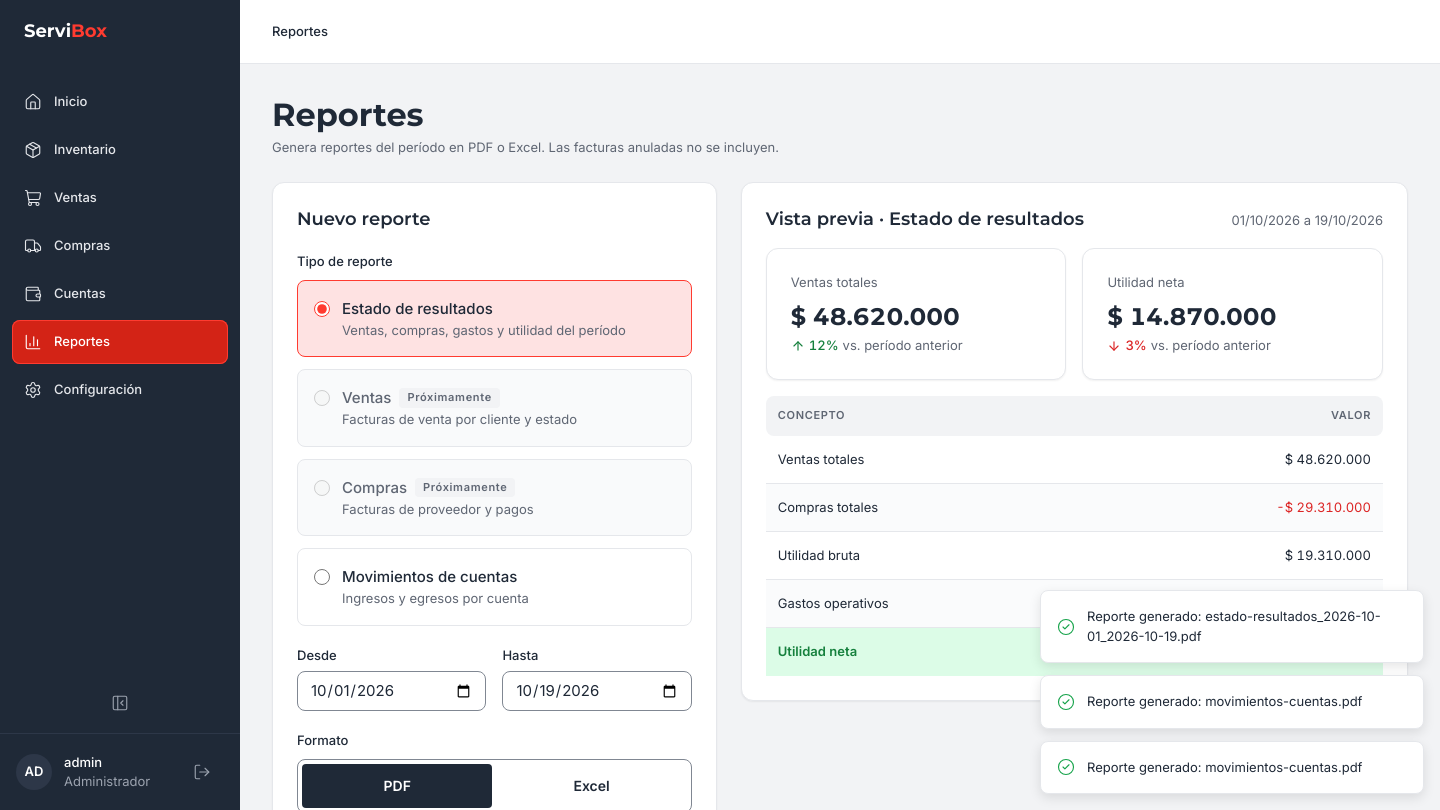
Scenario: ReportsPage › un error del backend queda en el Alert sin perder lo digitado
Click the radio button labelled "Movimientos de cuentas Ingresos y egresos por cuenta" at (322, 577), box [314,569,330,585]
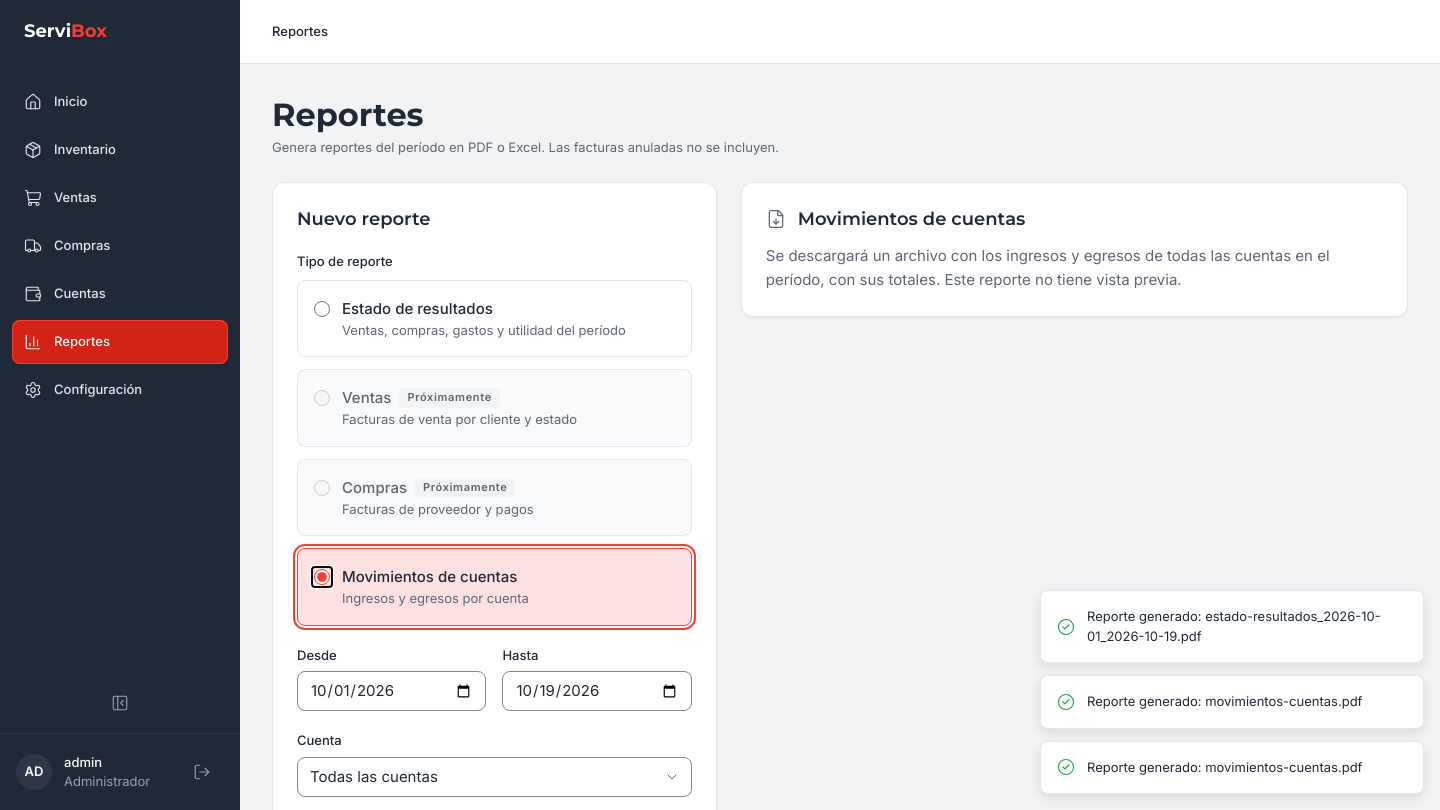
Type "2026-01-01" into the date field labelled "Desde" at (392, 691), box [297,671,486,711]
(page scrolled)
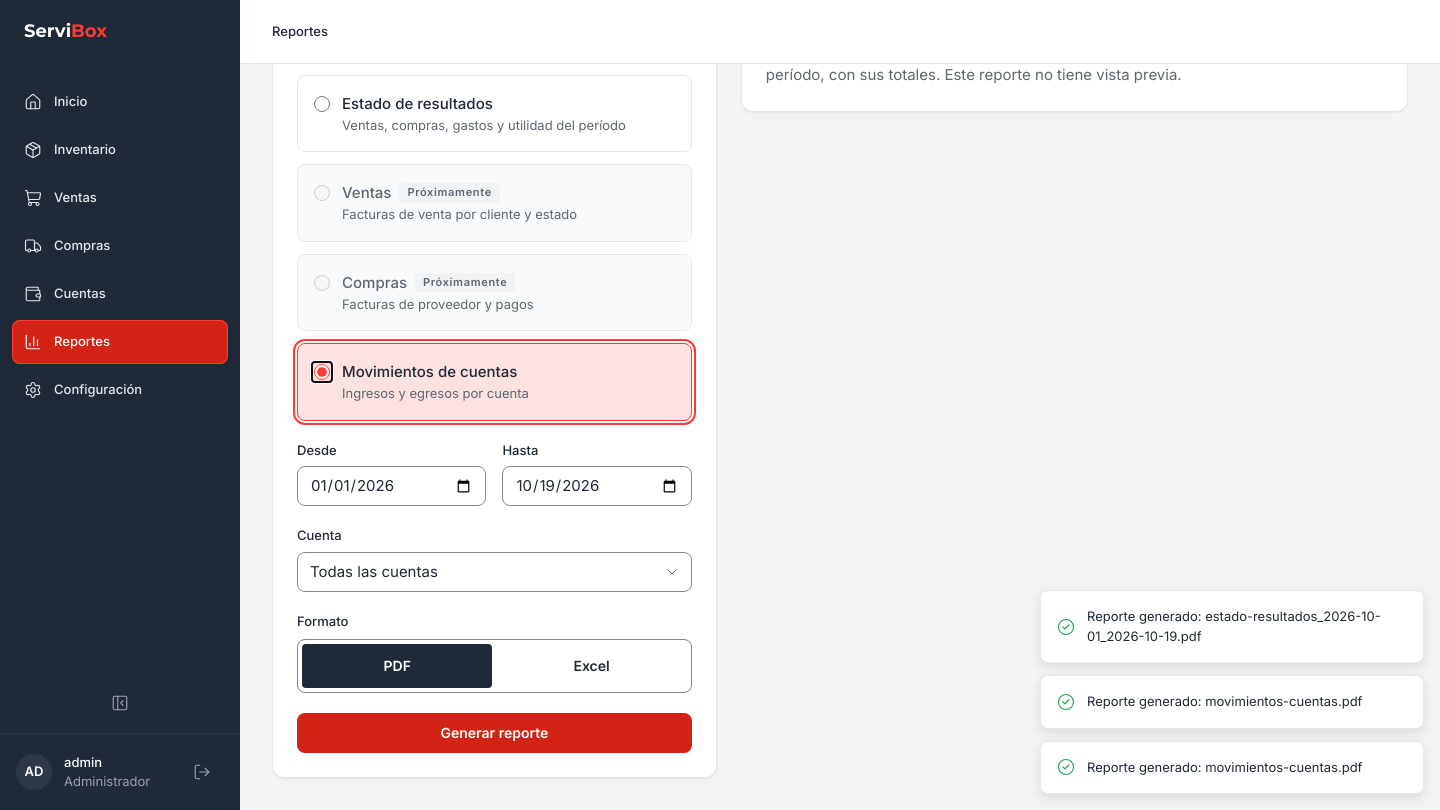
Click the button "Generar reporte" at (494, 733), box [297,713,692,753]
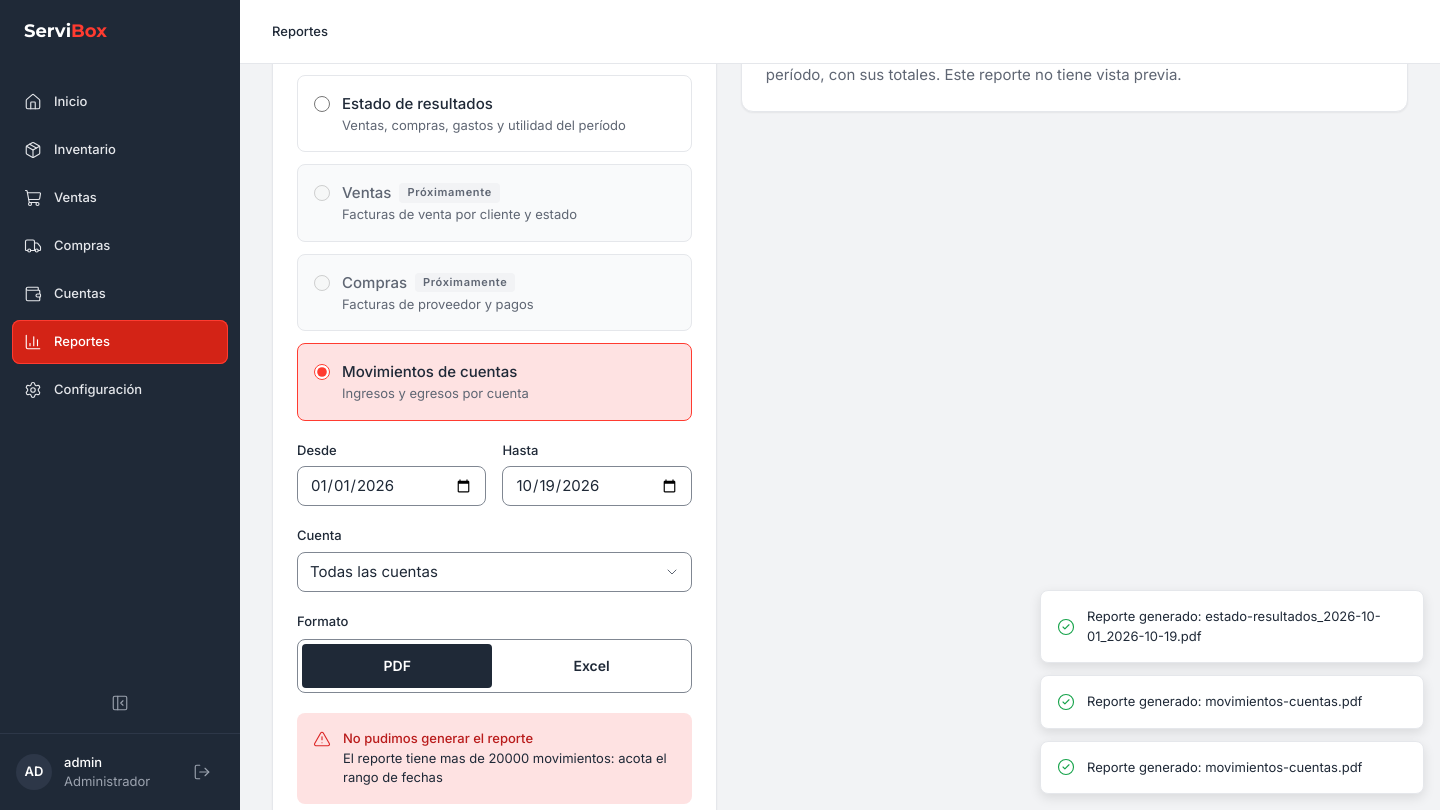
Now the radio button labelled "Movimientos de cuentas Ingresos y egresos por cuenta" is checked, box [314,364,330,380]
Now the message that starts with "No pudimos generar el reporte" is shown, box [343,730,533,746]
Now the message that starts with "No pudimos generar el reporte" shows "El reporte tiene mas de 20000 movimientos: acota el rango de fechas", box [343,750,667,785]
